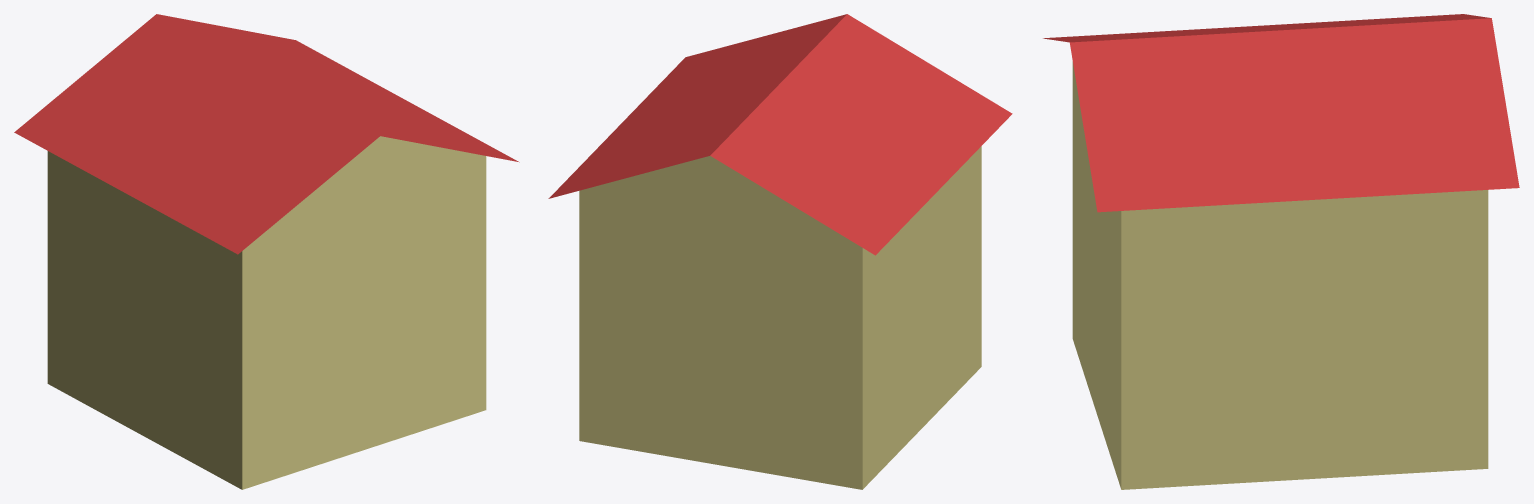
3 renders of one model, left to right at view 1: azimuth 30°, elevation 25°; view 2: azimuth 150°, elevation 25°; view 3: azimuth 270°, elevation 25°, orthographic. The views are drawn at different scales.
Size of the model in its own units: 12.59 by 12.83 by 11.09.
